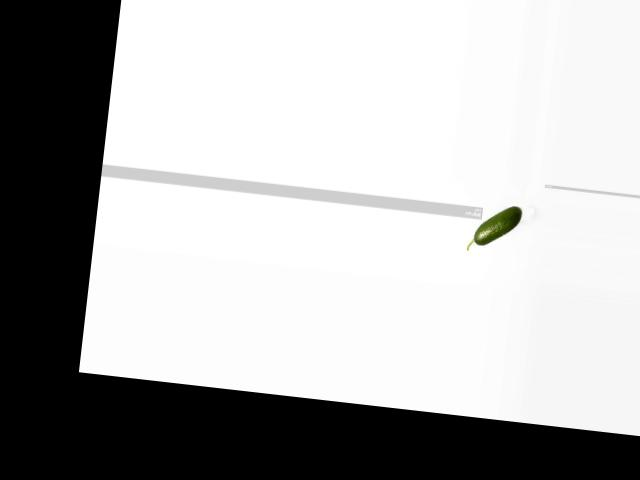cucumber: (465, 200, 521, 255)
